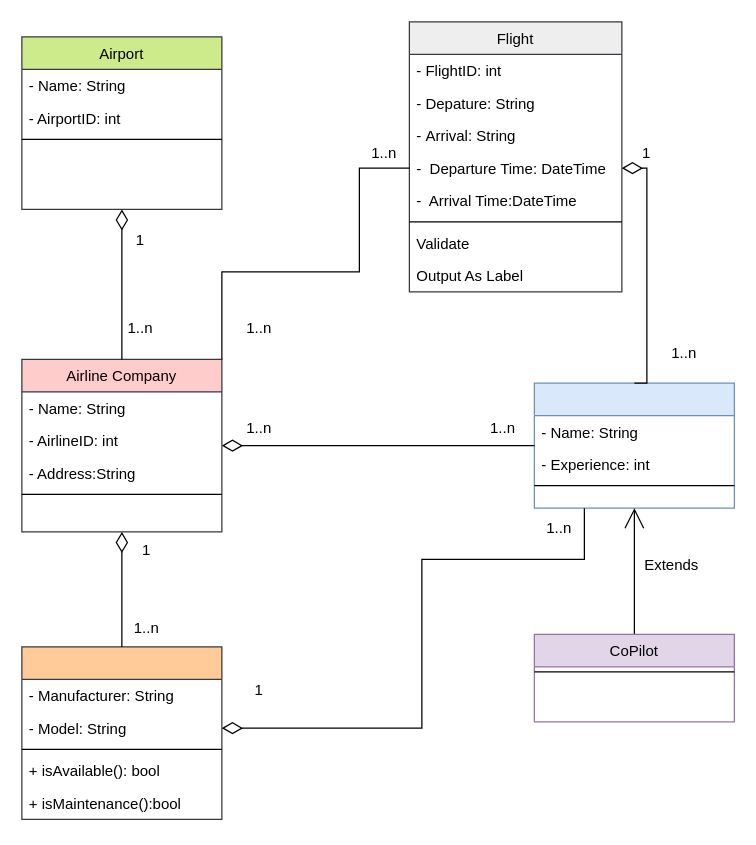
The diagram is 756 pixels wide and 845 high, and some of its shapes have lost their labels. Here are the shapes that lost their labels. From the top down, the box of each, then its label:
(533, 382, 734, 508): Pilot
(21, 646, 222, 819): Aircraft
